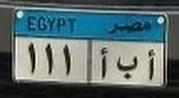1: (26, 40, 40, 78), (42, 41, 57, 76), (61, 44, 76, 77)
alif: (144, 47, 158, 83), (98, 46, 111, 79)
baa: (115, 53, 139, 80)
